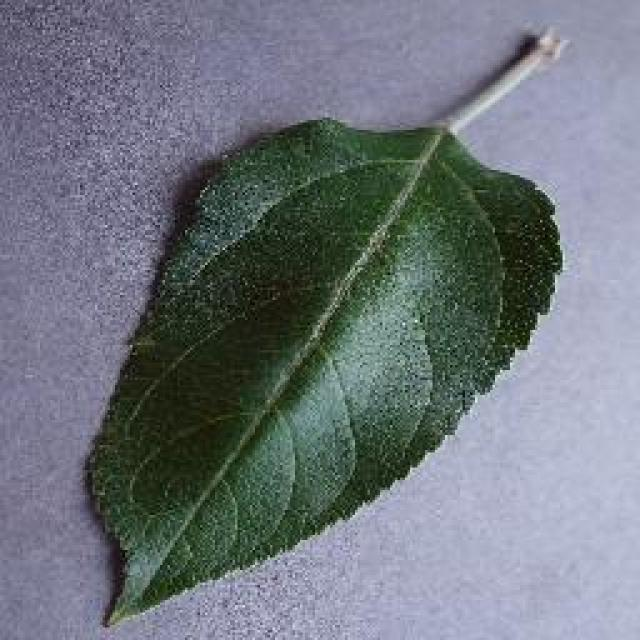apple healthy: (80, 22, 570, 628)
